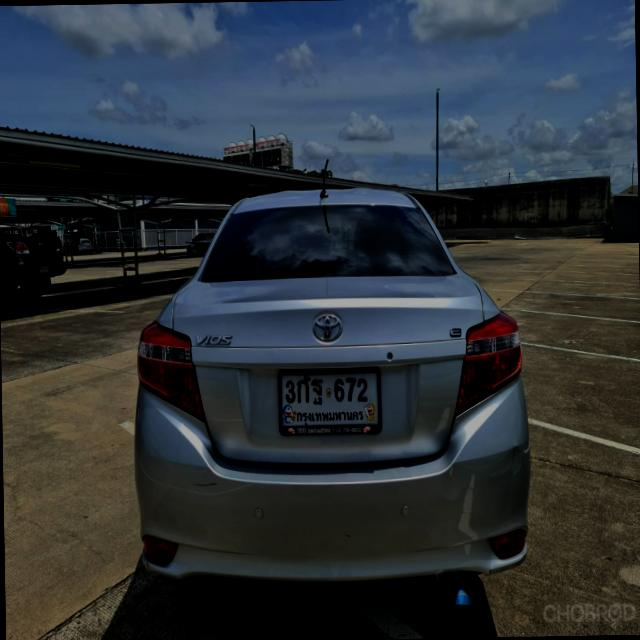license_plate: (276, 363, 383, 438)
